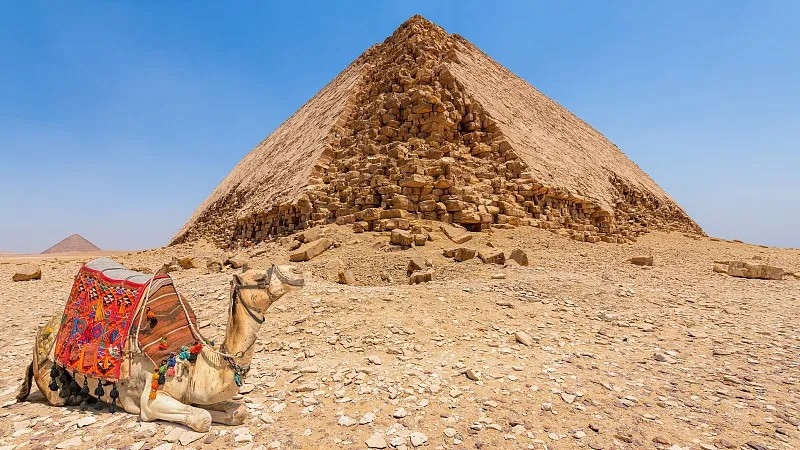Pyramid: (170, 14, 711, 243), (40, 233, 101, 252)
